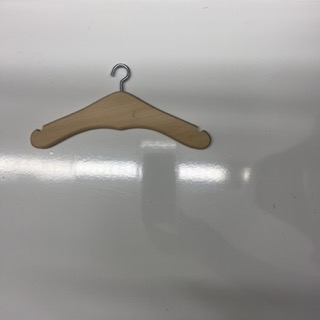rack: (30, 63, 212, 150)
